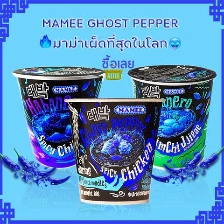paper_cup: (59, 92, 169, 209), (8, 61, 109, 171), (123, 60, 220, 173)
